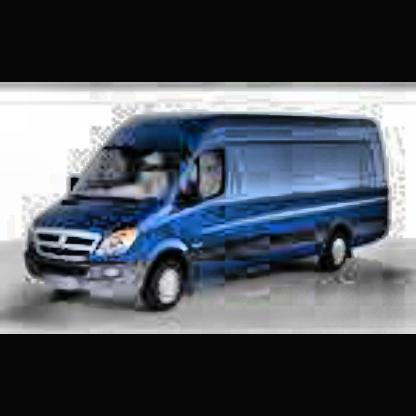Dodge Sprinter Cargo Van 2009: (26, 112, 397, 320)
